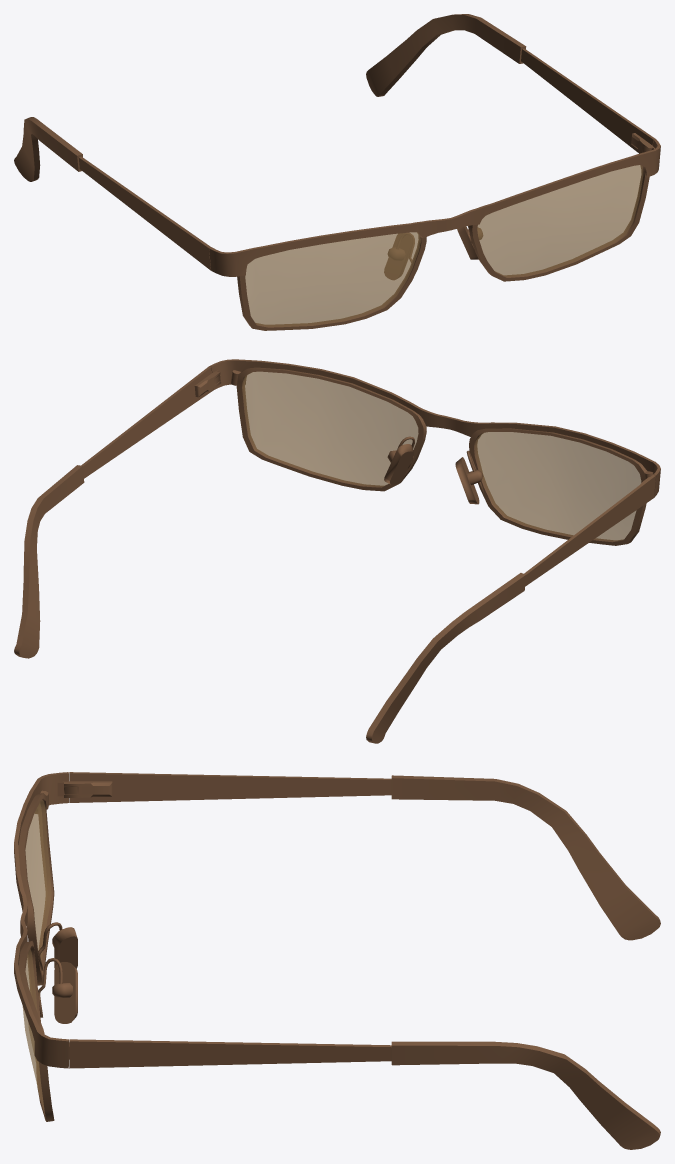
Rendered from model_9_cokelat_tua.glb.
3 views of the same model, one above another, from view 1: azimuth 30°, elevation 25°; view 2: azimuth 150°, elevation 25°; view 3: azimuth 270°, elevation 25° (orthographic). The views are drawn at different scales.
Parts seen in each view (by area): view 1: model_9_cokelat_tua; view 2: model_9_cokelat_tua; view 3: model_9_cokelat_tua.
Part boxes in pixels (box(x1,y1,x2,y2)): model_9_cokelat_tua: box(14, 14, 660, 330); model_9_cokelat_tua: box(14, 359, 660, 743); model_9_cokelat_tua: box(14, 772, 660, 1149).
Bounding box in the file's own units: 3.23 × 0.7924 × 3.27.
